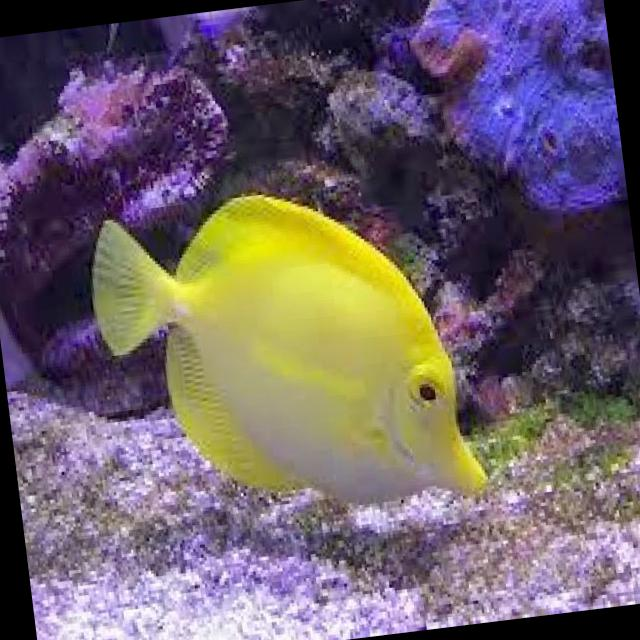TangFish: (80, 165, 493, 540)
